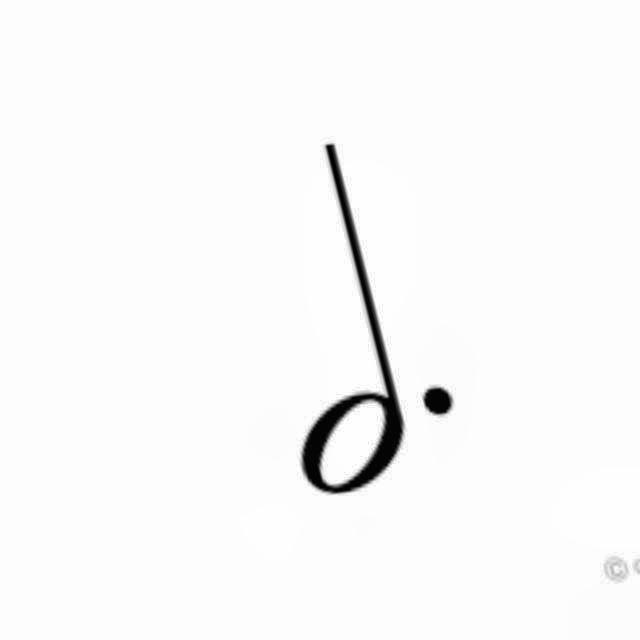Half-dot: (244, 136, 481, 502)
